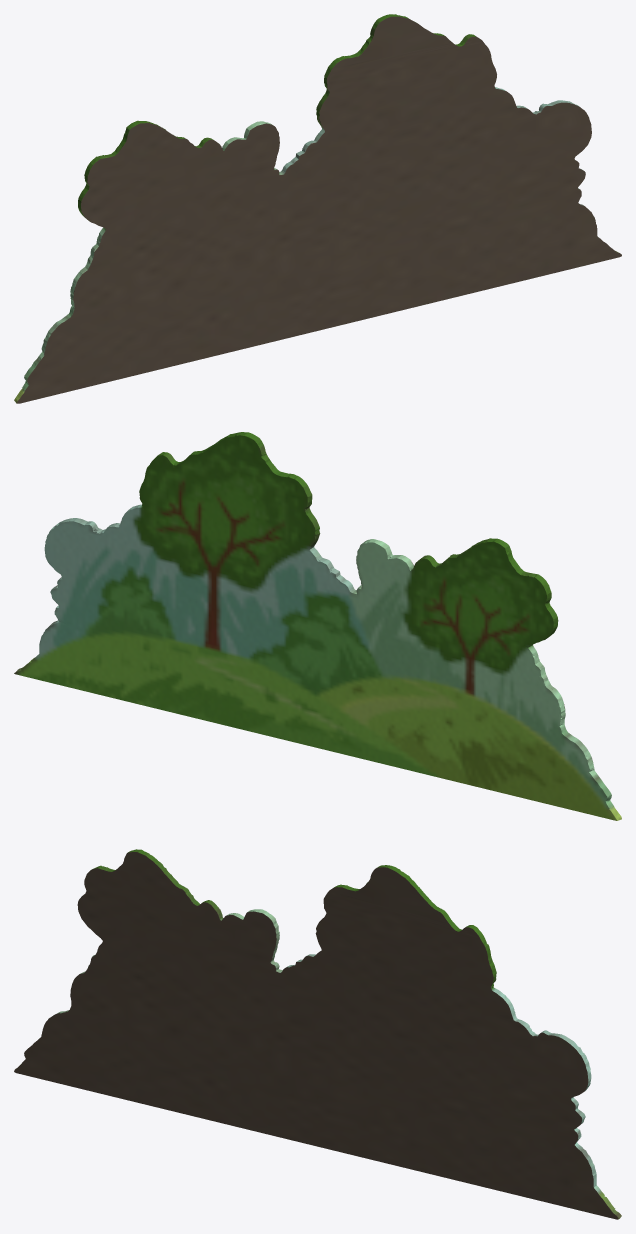
File: forest.glb
3 renders of one model, top to bottom at view 1: azimuth 30°, elevation 25°; view 2: azimuth 150°, elevation 25°; view 3: azimuth 330°, elevation 25°, orthographic.
Parts seen in each view (by area): view 1: Standee.Forest; view 2: Standee.Forest; view 3: Standee.Forest.
Part boxes in pixels (box(x1,y1,x2,y2)): Standee.Forest: box(14, 14, 621, 403); Standee.Forest: box(14, 432, 621, 820); Standee.Forest: box(14, 849, 621, 1219).
Size of the model in its own units: 3.64 by 1.7 by 0.04.
1 material, 1 textured.
